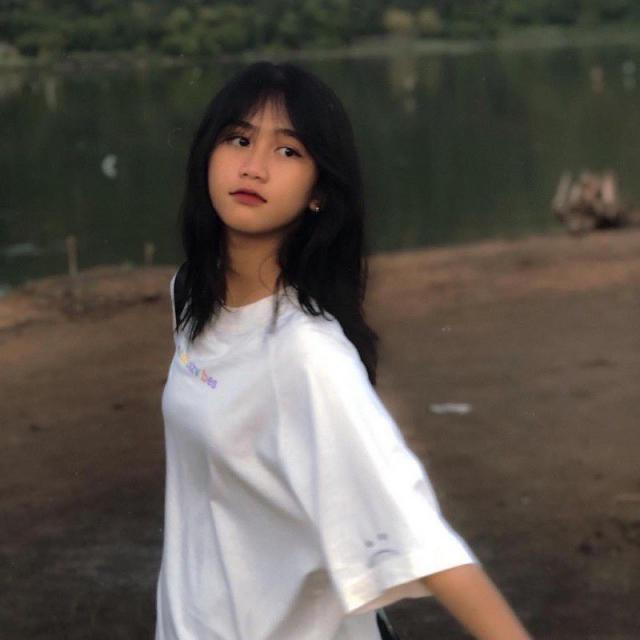Shirt: (160, 267, 480, 639)
